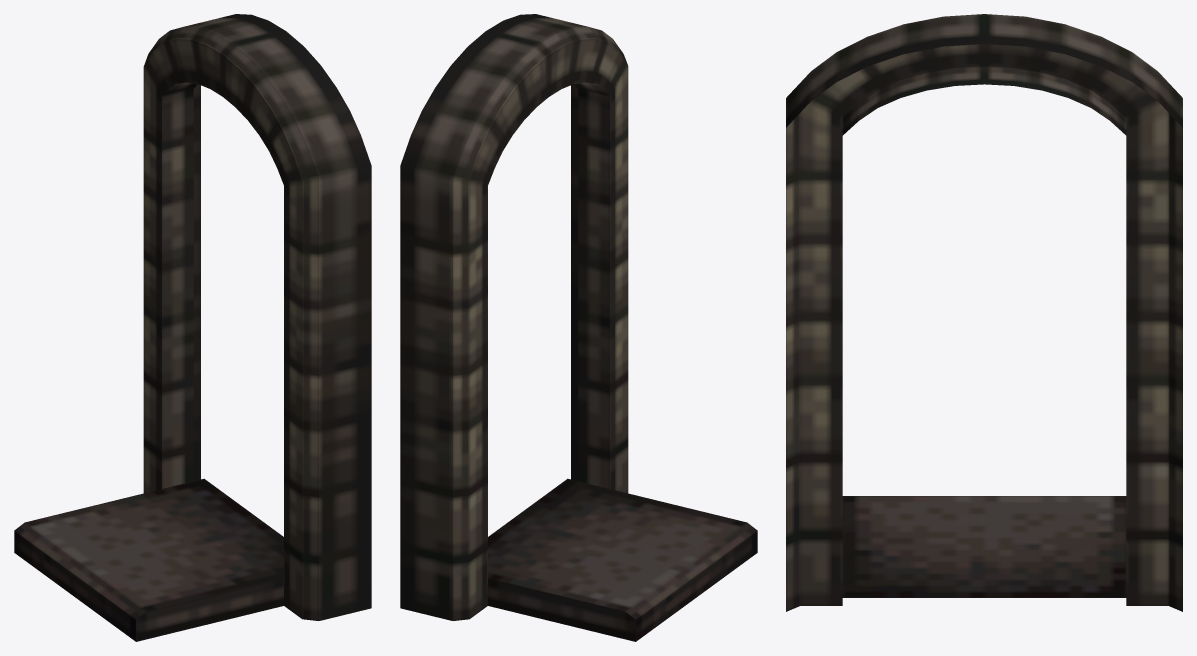
File: EnvBdgMD_Plain_A_Outdoor_Entrance_A.FBX
3 renders of one model, left to right at view 1: azimuth 30°, elevation 25°; view 2: azimuth 150°, elevation 25°; view 3: azimuth 270°, elevation 25°, orthographic. The views are drawn at different scales.
Parts seen in each view (by area): view 1: EnvBdgMD_Plain_A_Outdoor_Entrance_A; view 2: EnvBdgMD_Plain_A_Outdoor_Entrance_A; view 3: EnvBdgMD_Plain_A_Outdoor_Entrance_A.
Boxes of the visible parts, x1,y1,x2,y2 form: EnvBdgMD_Plain_A_Outdoor_Entrance_A: (14,14,371,641); EnvBdgMD_Plain_A_Outdoor_Entrance_A: (400,14,757,641); EnvBdgMD_Plain_A_Outdoor_Entrance_A: (786,14,1182,611).
Size of the model in its own units: 100 by 233 by 140.
1 material, 1 textured.
